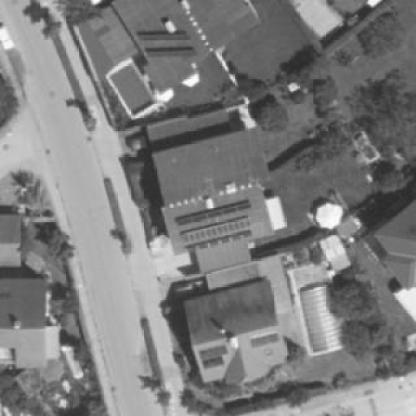solar-pv-panel: (182, 216, 252, 243), (177, 202, 251, 225), (187, 232, 251, 251), (200, 345, 229, 369), (250, 331, 279, 348), (141, 35, 189, 42), (148, 50, 196, 57)
